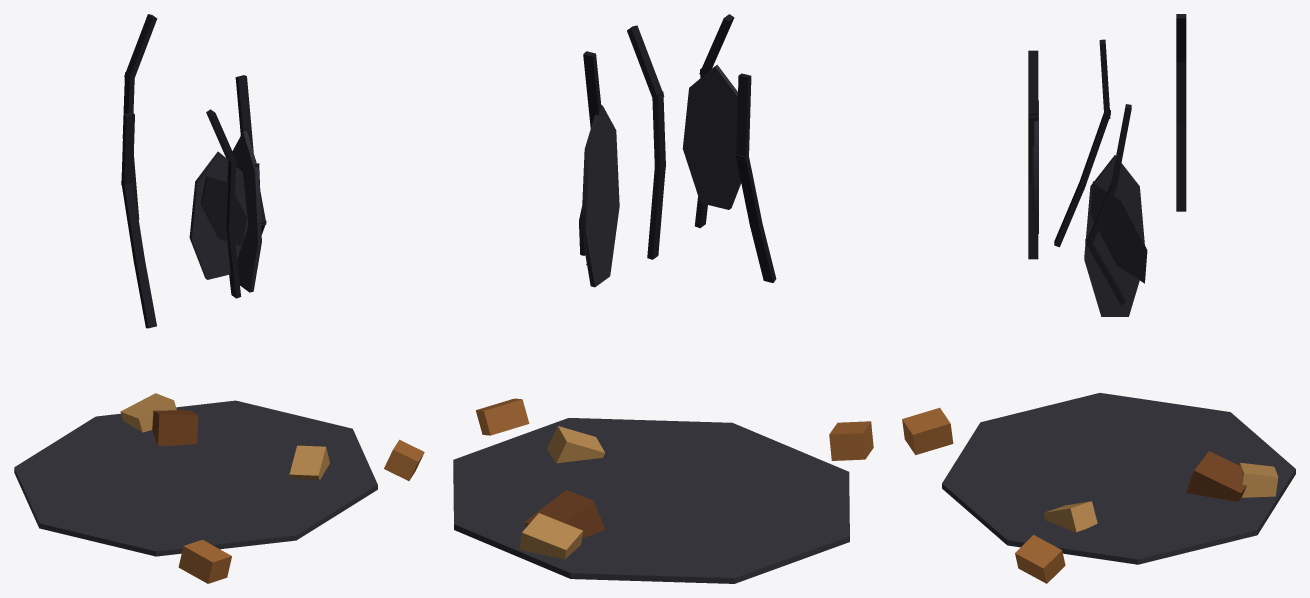
Rendered from wall_dmg_0_1.glb.
The picture shows the model from 3 angles, left to right: view 1: azimuth 30°, elevation 25°; view 2: azimuth 150°, elevation 25°; view 3: azimuth 270°, elevation 25°; orthographic projection. The views are drawn at different scales.
Visible parts, largest first — view 1: body; view 2: body; view 3: body.
Boxes of the visible parts, x1,y1,x2,y2 form: body: (14,14,424,583); body: (453,14,873,583); body: (902,14,1295,583).
Size of the model in its own units: 1.46 by 1.79 by 1.35.
